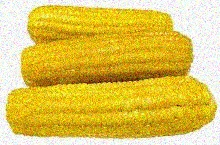corn: (2, 74, 219, 138), (21, 33, 193, 85), (27, 6, 174, 59)
